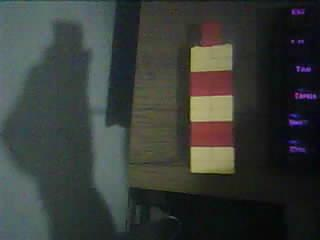lego: (188, 20, 236, 176)
